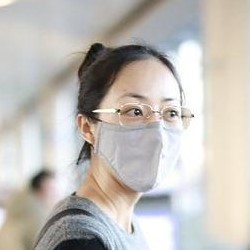mask: (80, 111, 185, 194)
